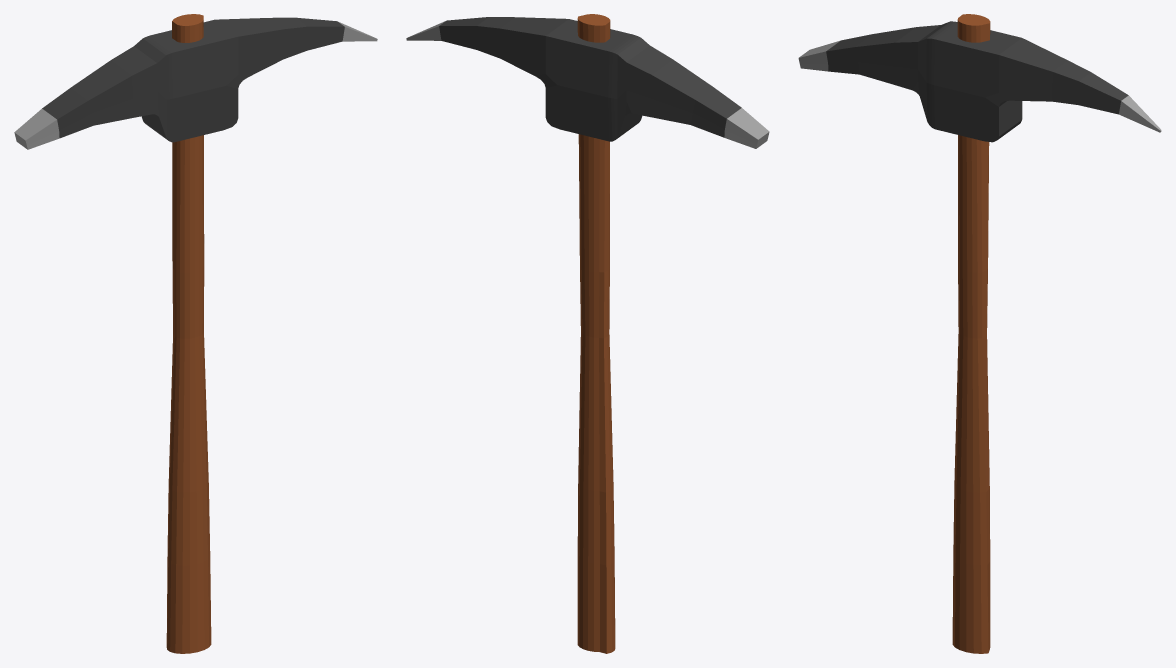
File: pickaxe.glb
3 renders of one model, left to right at view 1: azimuth 30°, elevation 25°; view 2: azimuth 150°, elevation 25°; view 3: azimuth 330°, elevation 25°, orthographic.
Visible parts, largest first — view 1: PickAxe1; view 2: PickAxe1; view 3: PickAxe1.
Part boxes in pixels (x1,y1,x2,y2): PickAxe1: (14,14,377,653); PickAxe1: (406,14,769,653); PickAxe1: (798,14,1161,653).
Size of the model in its own units: 0.9544 by 1.6 by 0.1197.
